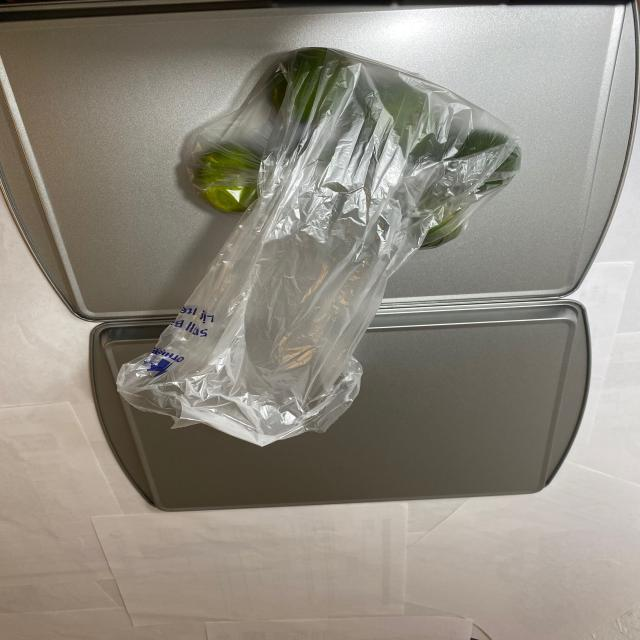lemon: (186, 55, 524, 252)
